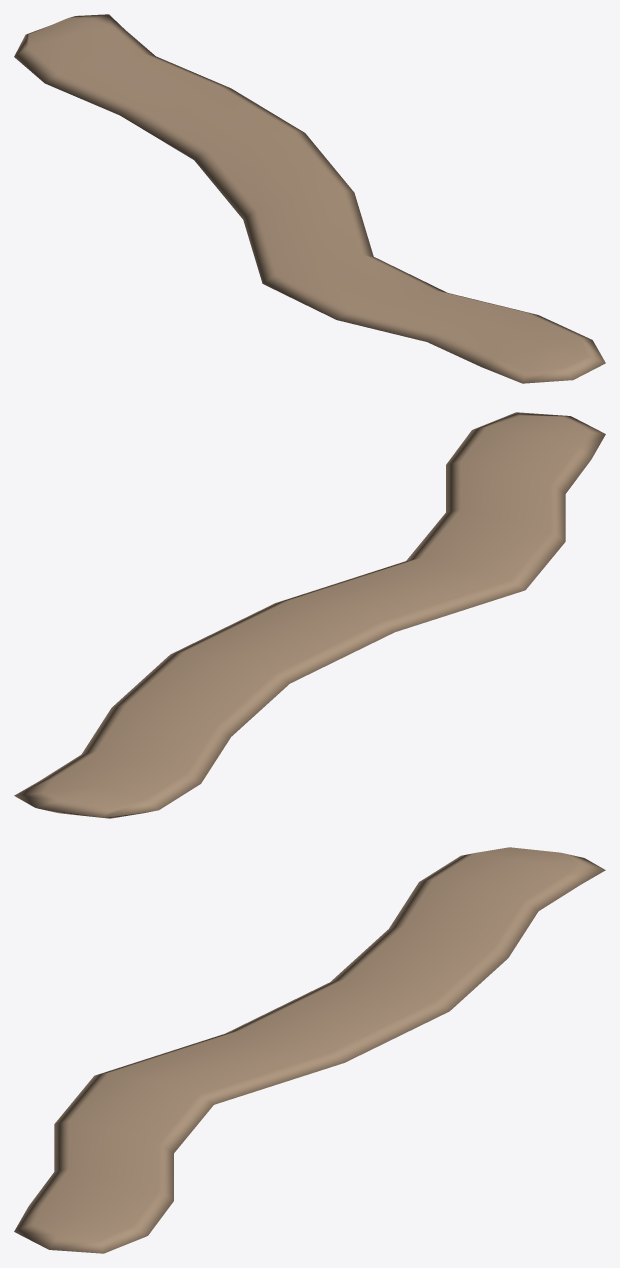
The model's file is Path.fbx.
3 views of the same model, one above another, from view 1: azimuth 30°, elevation 25°; view 2: azimuth 150°, elevation 25°; view 3: azimuth 330°, elevation 25° (orthographic). The views are drawn at different scales.
Visible parts, largest first — view 1: pCube23; view 2: pCube23; view 3: pCube23.
Boxes of the visible parts, x1,y1,x2,y2 form: pCube23: (14,14,605,383); pCube23: (14,412,605,818); pCube23: (14,847,605,1253).
Size of the model in its own units: 1104 by 90.6 by 5009.
